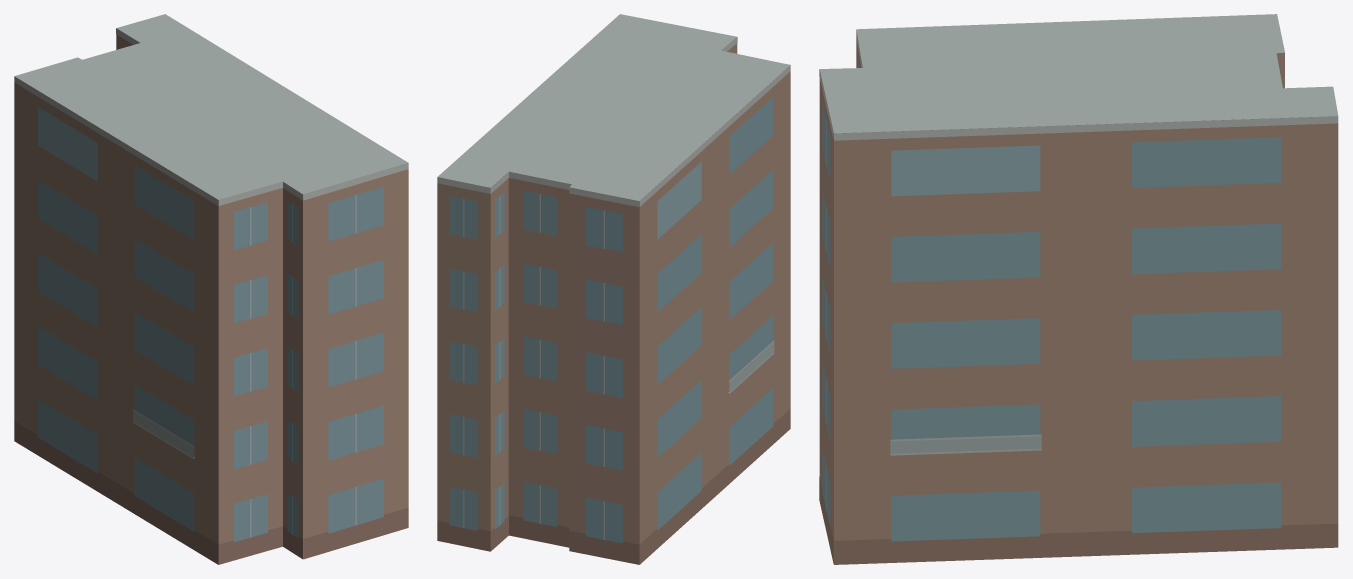
Rendered from survey-upis-32754583.glb.
3 views of the same model, side by side, from view 1: azimuth 30°, elevation 25°; view 2: azimuth 150°, elevation 25°; view 3: azimuth 270°, elevation 25° (orthographic). The views are drawn at different scales.
Parts seen in each view (by area): view 1: survey-upis-32754583.tmp; view 2: survey-upis-32754583.tmp; view 3: survey-upis-32754583.tmp.
Boxes of the visible parts, x1=… form: survey-upis-32754583.tmp: x1=14, y1=14, x2=408, y2=564; survey-upis-32754583.tmp: x1=437, y1=14, x2=790, y2=564; survey-upis-32754583.tmp: x1=819, y1=14, x2=1338, y2=564.
Bounding box in the file's own units: 8.59 × 14.45 × 15.76.
